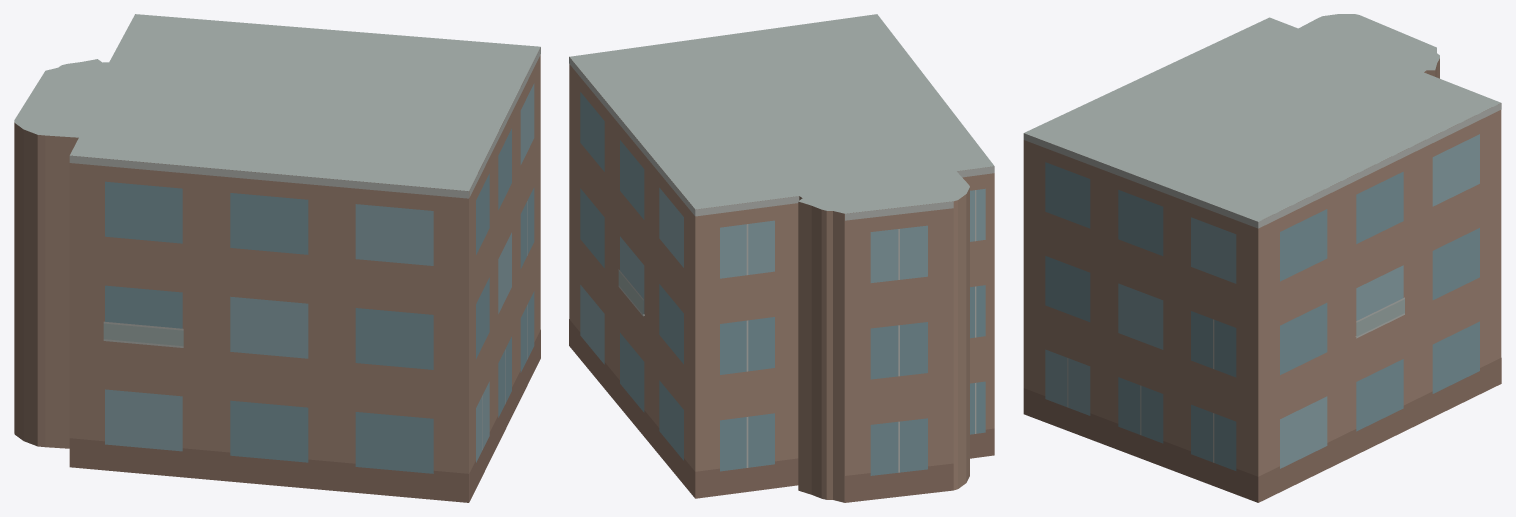
File: survey-upis-33046793.glb
3 views of the same model, side by side, from view 1: azimuth 30°, elevation 25°; view 2: azimuth 150°, elevation 25°; view 3: azimuth 270°, elevation 25° (orthographic). The views are drawn at different scales.
Parts seen in each view (by area): view 1: survey-upis-33046793.tmp; view 2: survey-upis-33046793.tmp; view 3: survey-upis-33046793.tmp.
Part boxes in pixels (box(x1,y1,x2,y2)): survey-upis-33046793.tmp: box(14, 14, 540, 502); survey-upis-33046793.tmp: box(569, 14, 994, 502); survey-upis-33046793.tmp: box(1023, 14, 1501, 502).
Size of the model in its own units: 16.11 by 10.15 by 15.65.
